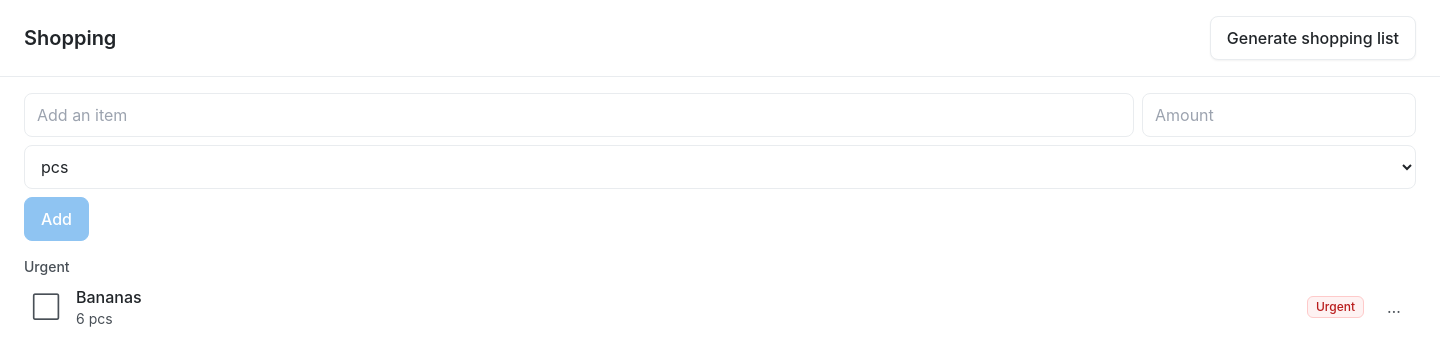
Test: The Shopping screen › tells the cook when undo fails, and refetches the list (F2)
Expected: the text "Bananas" is shown, [76, 287, 142, 307]
Click the button named "Mark Bananas bought" at [46, 307], box [24, 285, 68, 329]
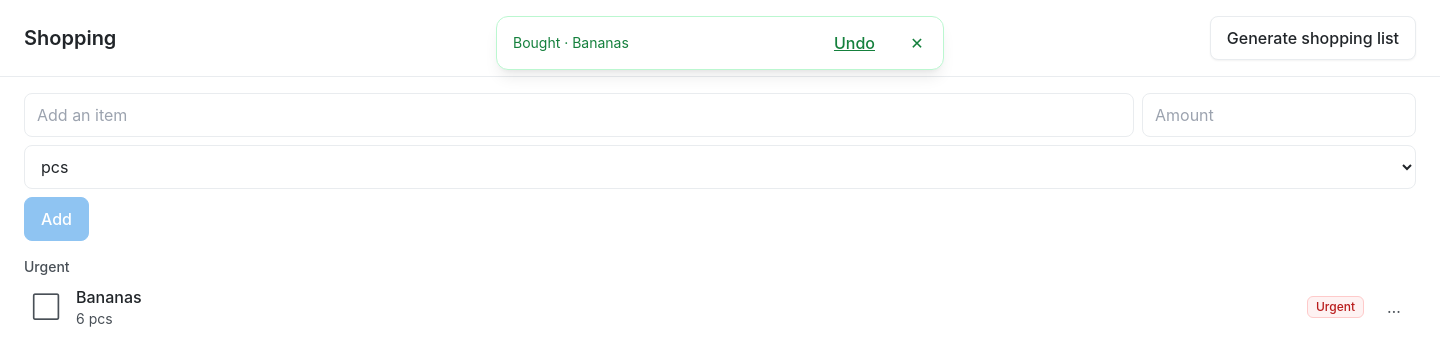
Expected: the text "Bought · Bananas" is shown, [513, 34, 629, 51]
Click the button "Undo" at [854, 43], box [822, 21, 887, 65]
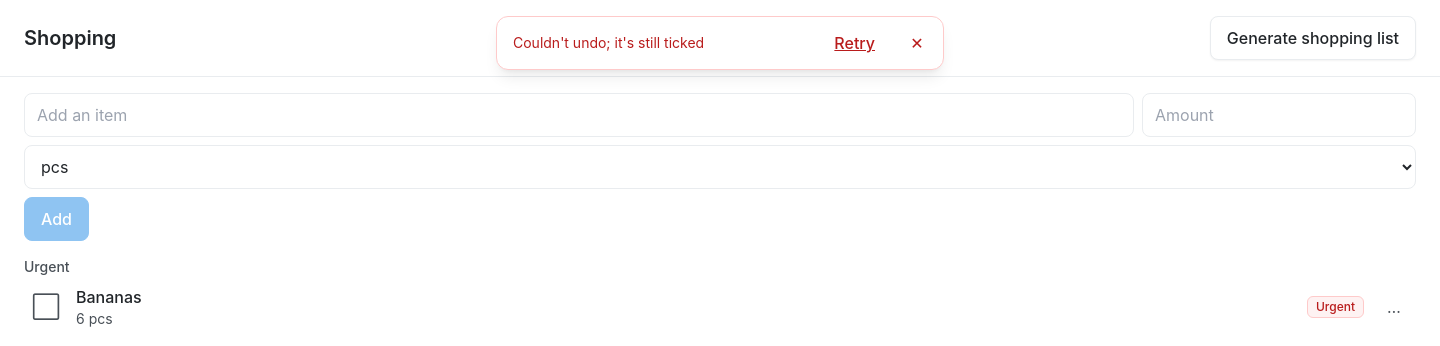
Expected: the text "Couldn't undo; it's still ticked" is shown, [513, 34, 704, 51]
Expected: the button "Retry" is shown, [822, 21, 887, 65]
